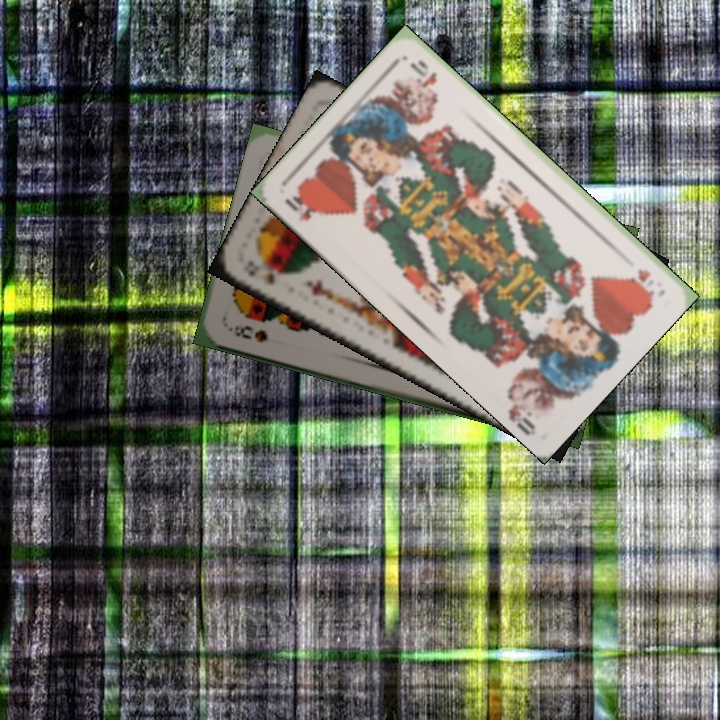HO: (280, 187, 324, 225), (628, 265, 658, 299)
S8: (224, 319, 271, 345)
SK: (238, 256, 278, 289)
